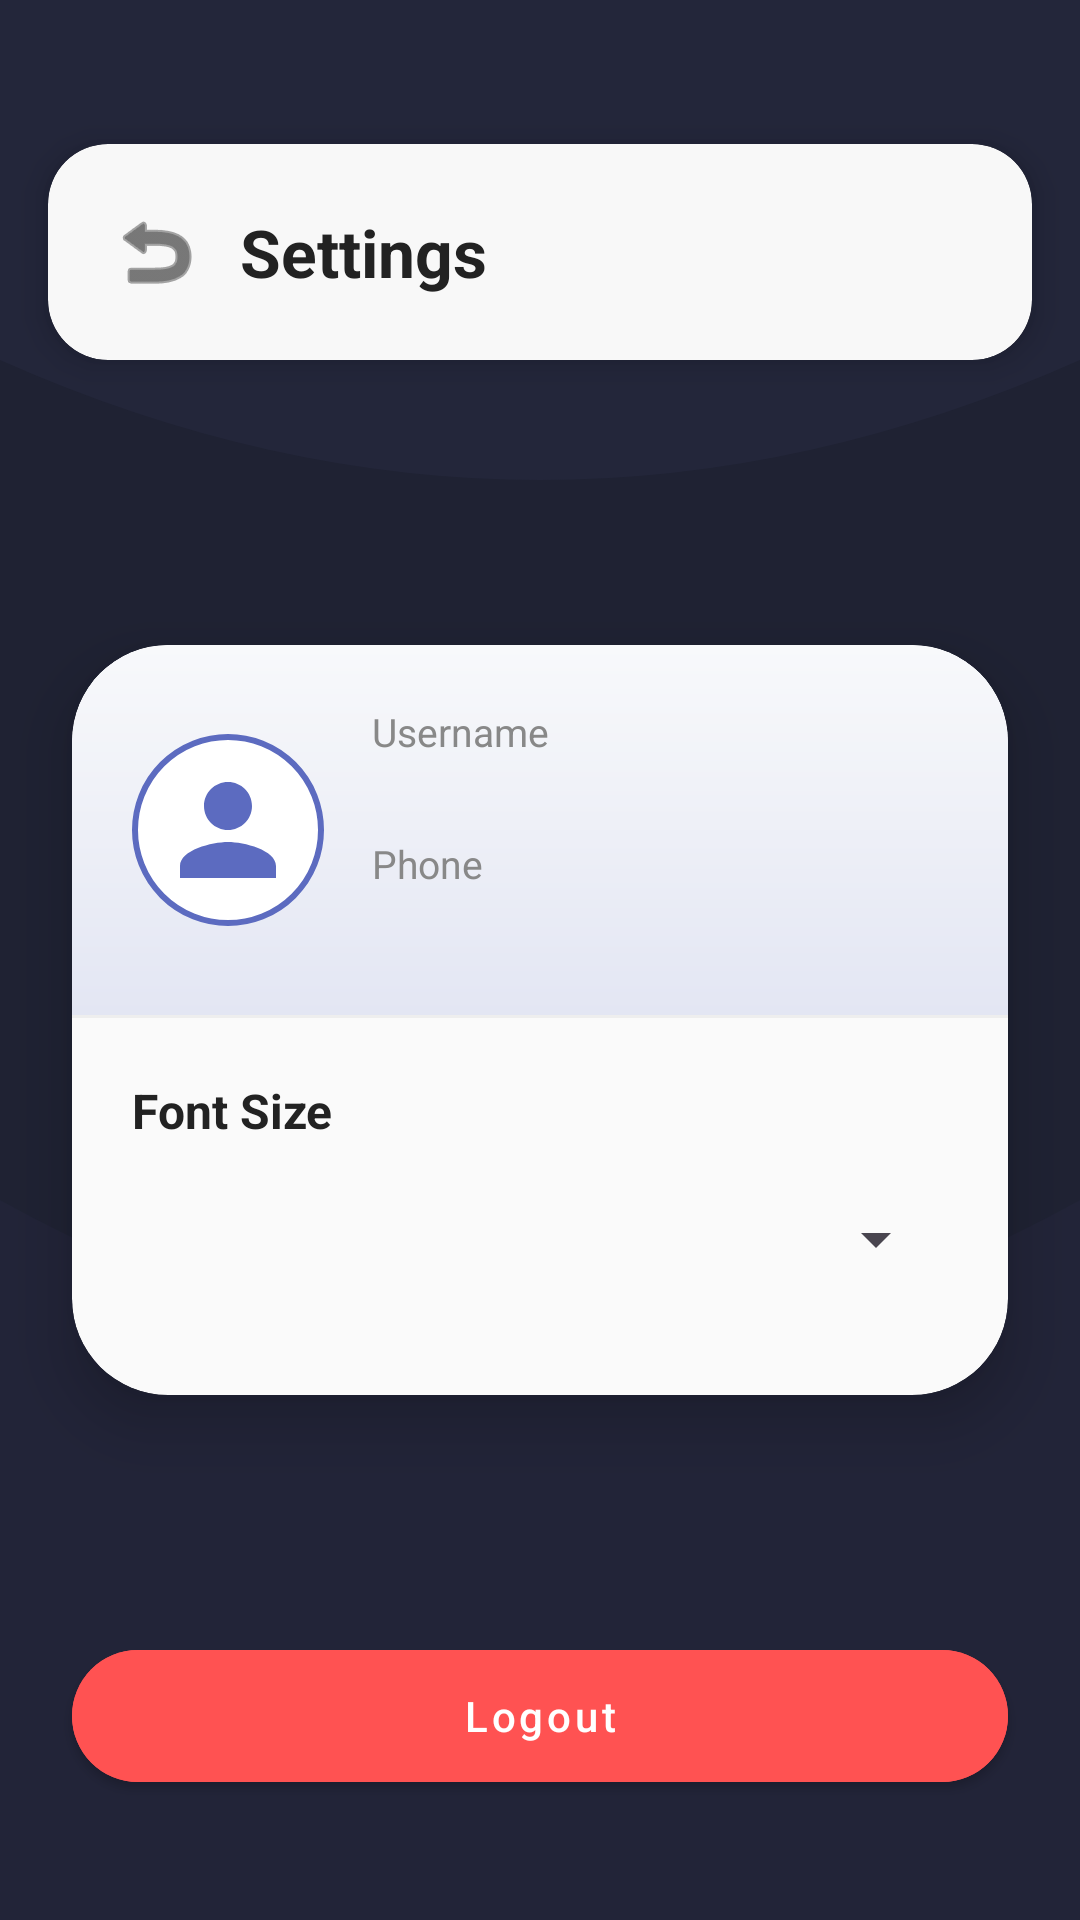

Locate icon controls on the screen. Image size 1080px×1920px, boxes as bbox(x1, y1, x2, y2).
account circle: bbox(132, 734, 324, 926)
Back: bbox(123, 221, 192, 284)
